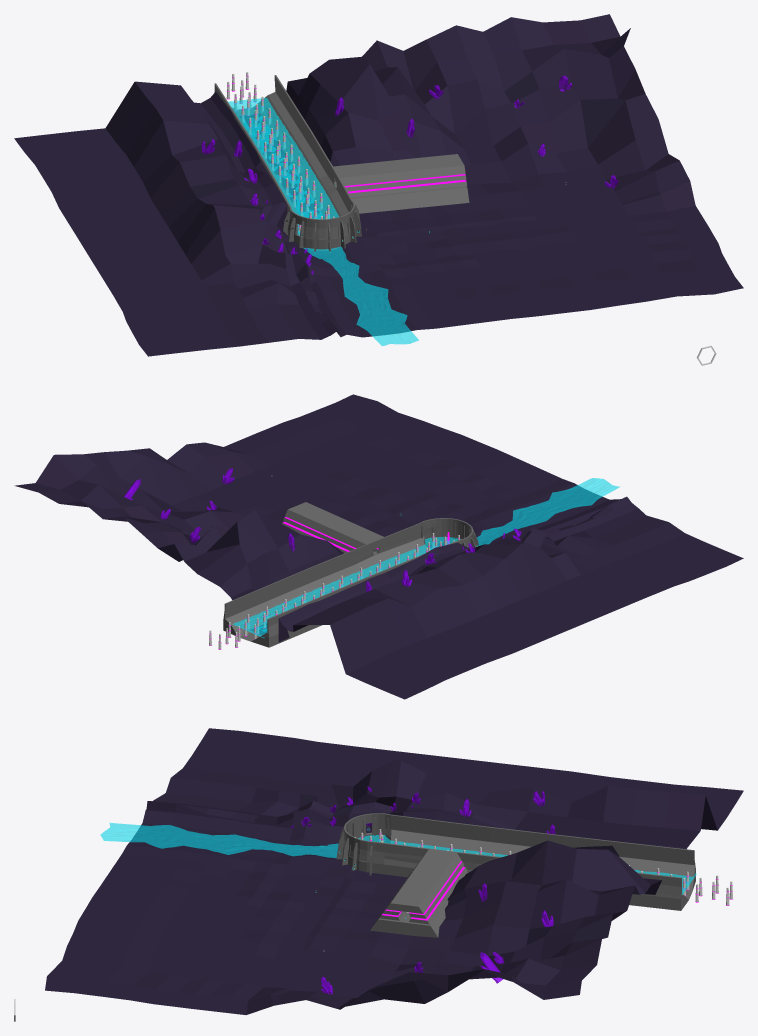
The model's file is hdr_map_exp01.fbx.
3 views of the same model, one above another, from view 1: azimuth 30°, elevation 25°; view 2: azimuth 150°, elevation 25°; view 3: azimuth 270°, elevation 25° (orthographic). The views are drawn at different scales.
Visible parts, largest first — view 1: chao, barragem, tunel, rio_barragem, rio, pilares; view 2: chao, barragem, rio, tunel, rio_barragem; view 3: chao, barragem, tunel, rio, rio_barragem, pilares.
Part boxes in pixels (x1,y1,x2,y2): chao: (14, 14, 743, 356); barragem: (214, 75, 355, 250); tunel: (333, 154, 469, 213); rio_barragem: (228, 98, 339, 235); rio: (244, 116, 418, 346); pilares: (283, 204, 361, 253); chao: (14, 394, 743, 699); barragem: (223, 518, 473, 647); rio: (259, 478, 619, 631); tunel: (282, 502, 383, 554); rio_barragem: (233, 537, 460, 638); chao: (45, 728, 743, 1014); barragem: (343, 813, 695, 910); tunel: (370, 849, 468, 937); rio: (100, 822, 338, 857); rio_barragem: (358, 835, 696, 894); pilares: (336, 817, 389, 875).
Bounding box in the file's own units: 140331 × 27805 × 133280.
